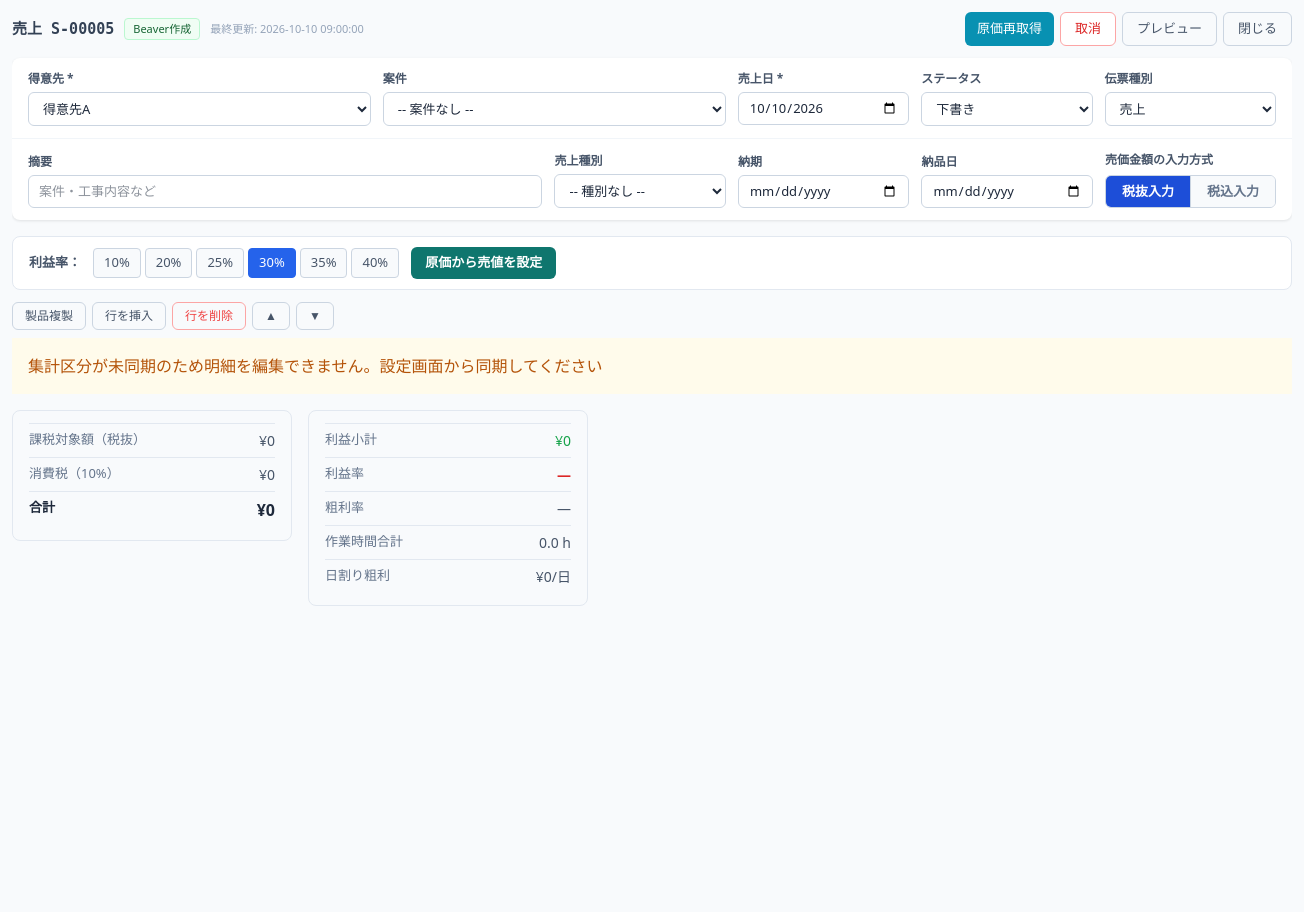
Test case: R-0172: 伝票画面の保存状態を右下に固定表示する › 保存失敗と再試行ボタンも右下固定の枠に出す
This screenshot has width=1304, height=912.
Expected: the date field showing "2026-10-10" below "売上日 *" is shown, x1=738 y1=92 x2=909 y2=125
In the field named "description": (285, 191) x1=28 y1=174 x2=542 y2=208, type "山田様邸"
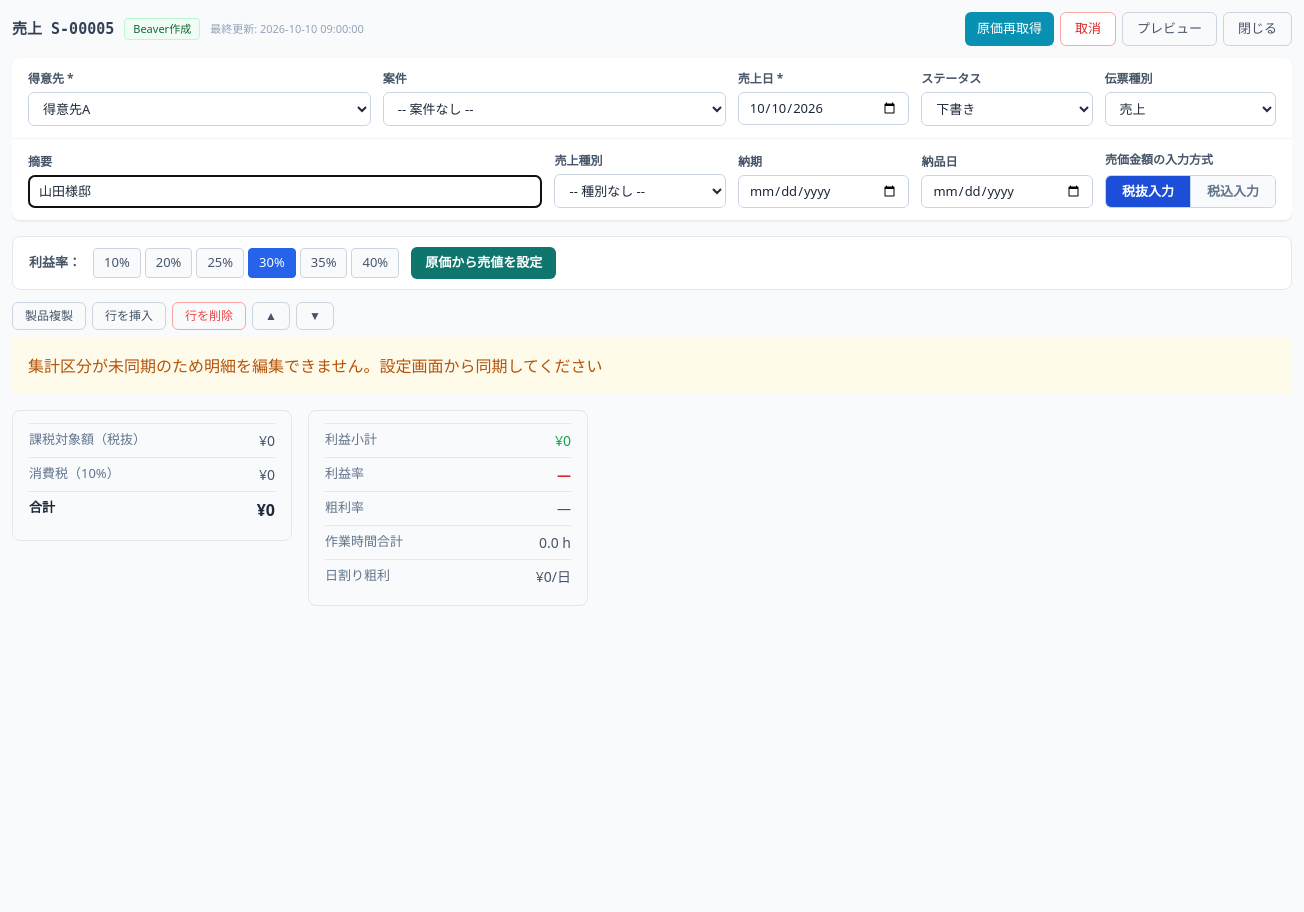
Press Tab
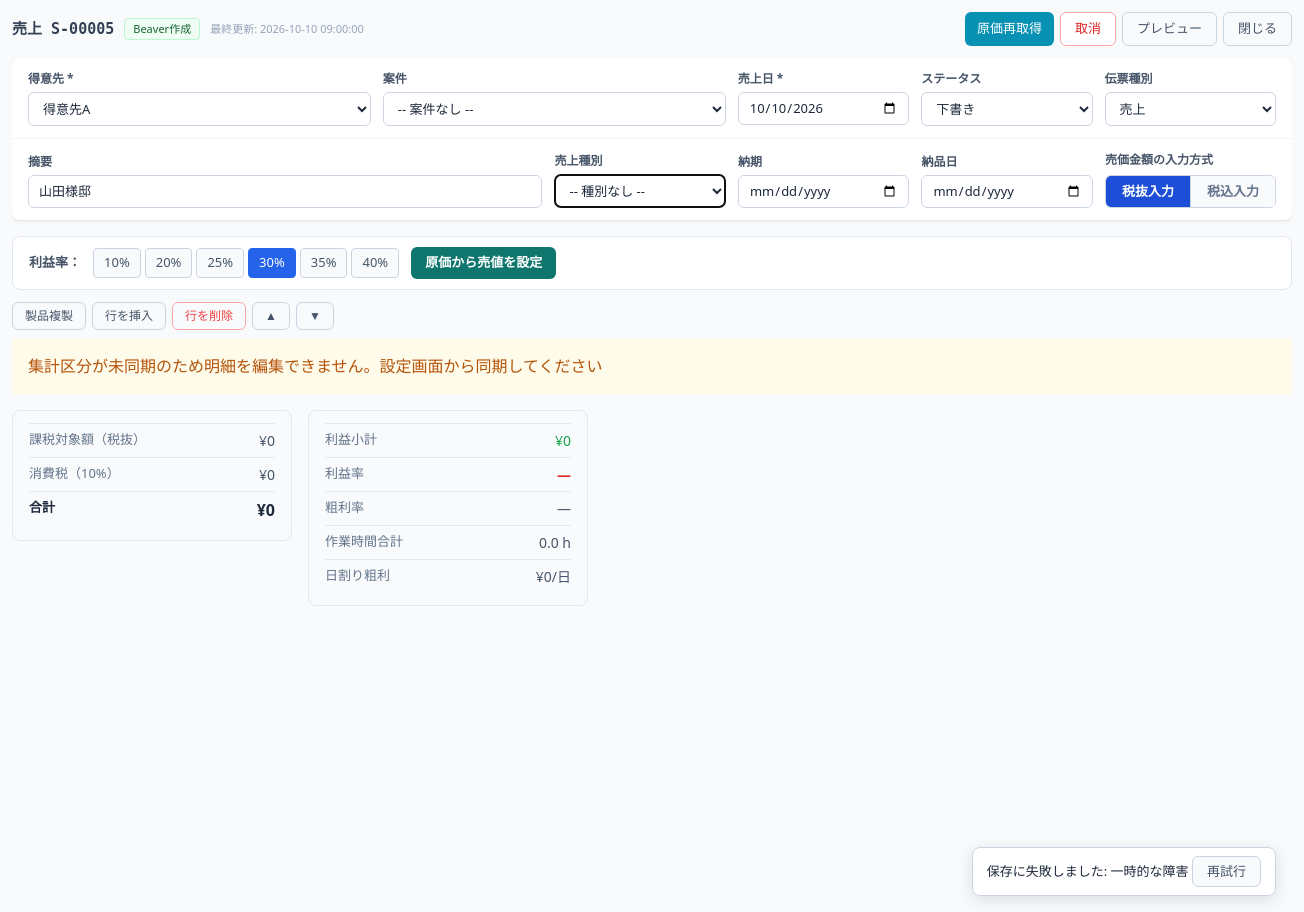
Result: the element "再試行" is shown at x1=972 y1=846 x2=1276 y2=896
